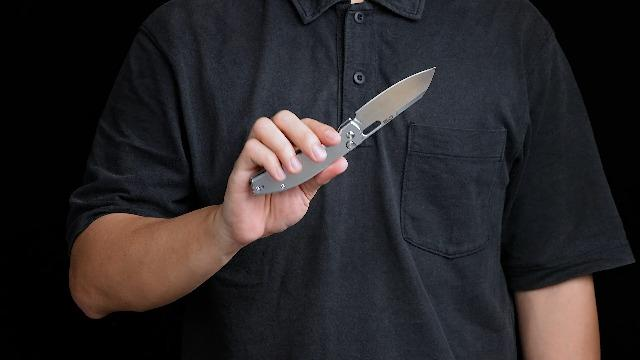Knife: (61, 1, 635, 360), (248, 65, 438, 205), (222, 106, 352, 247)
